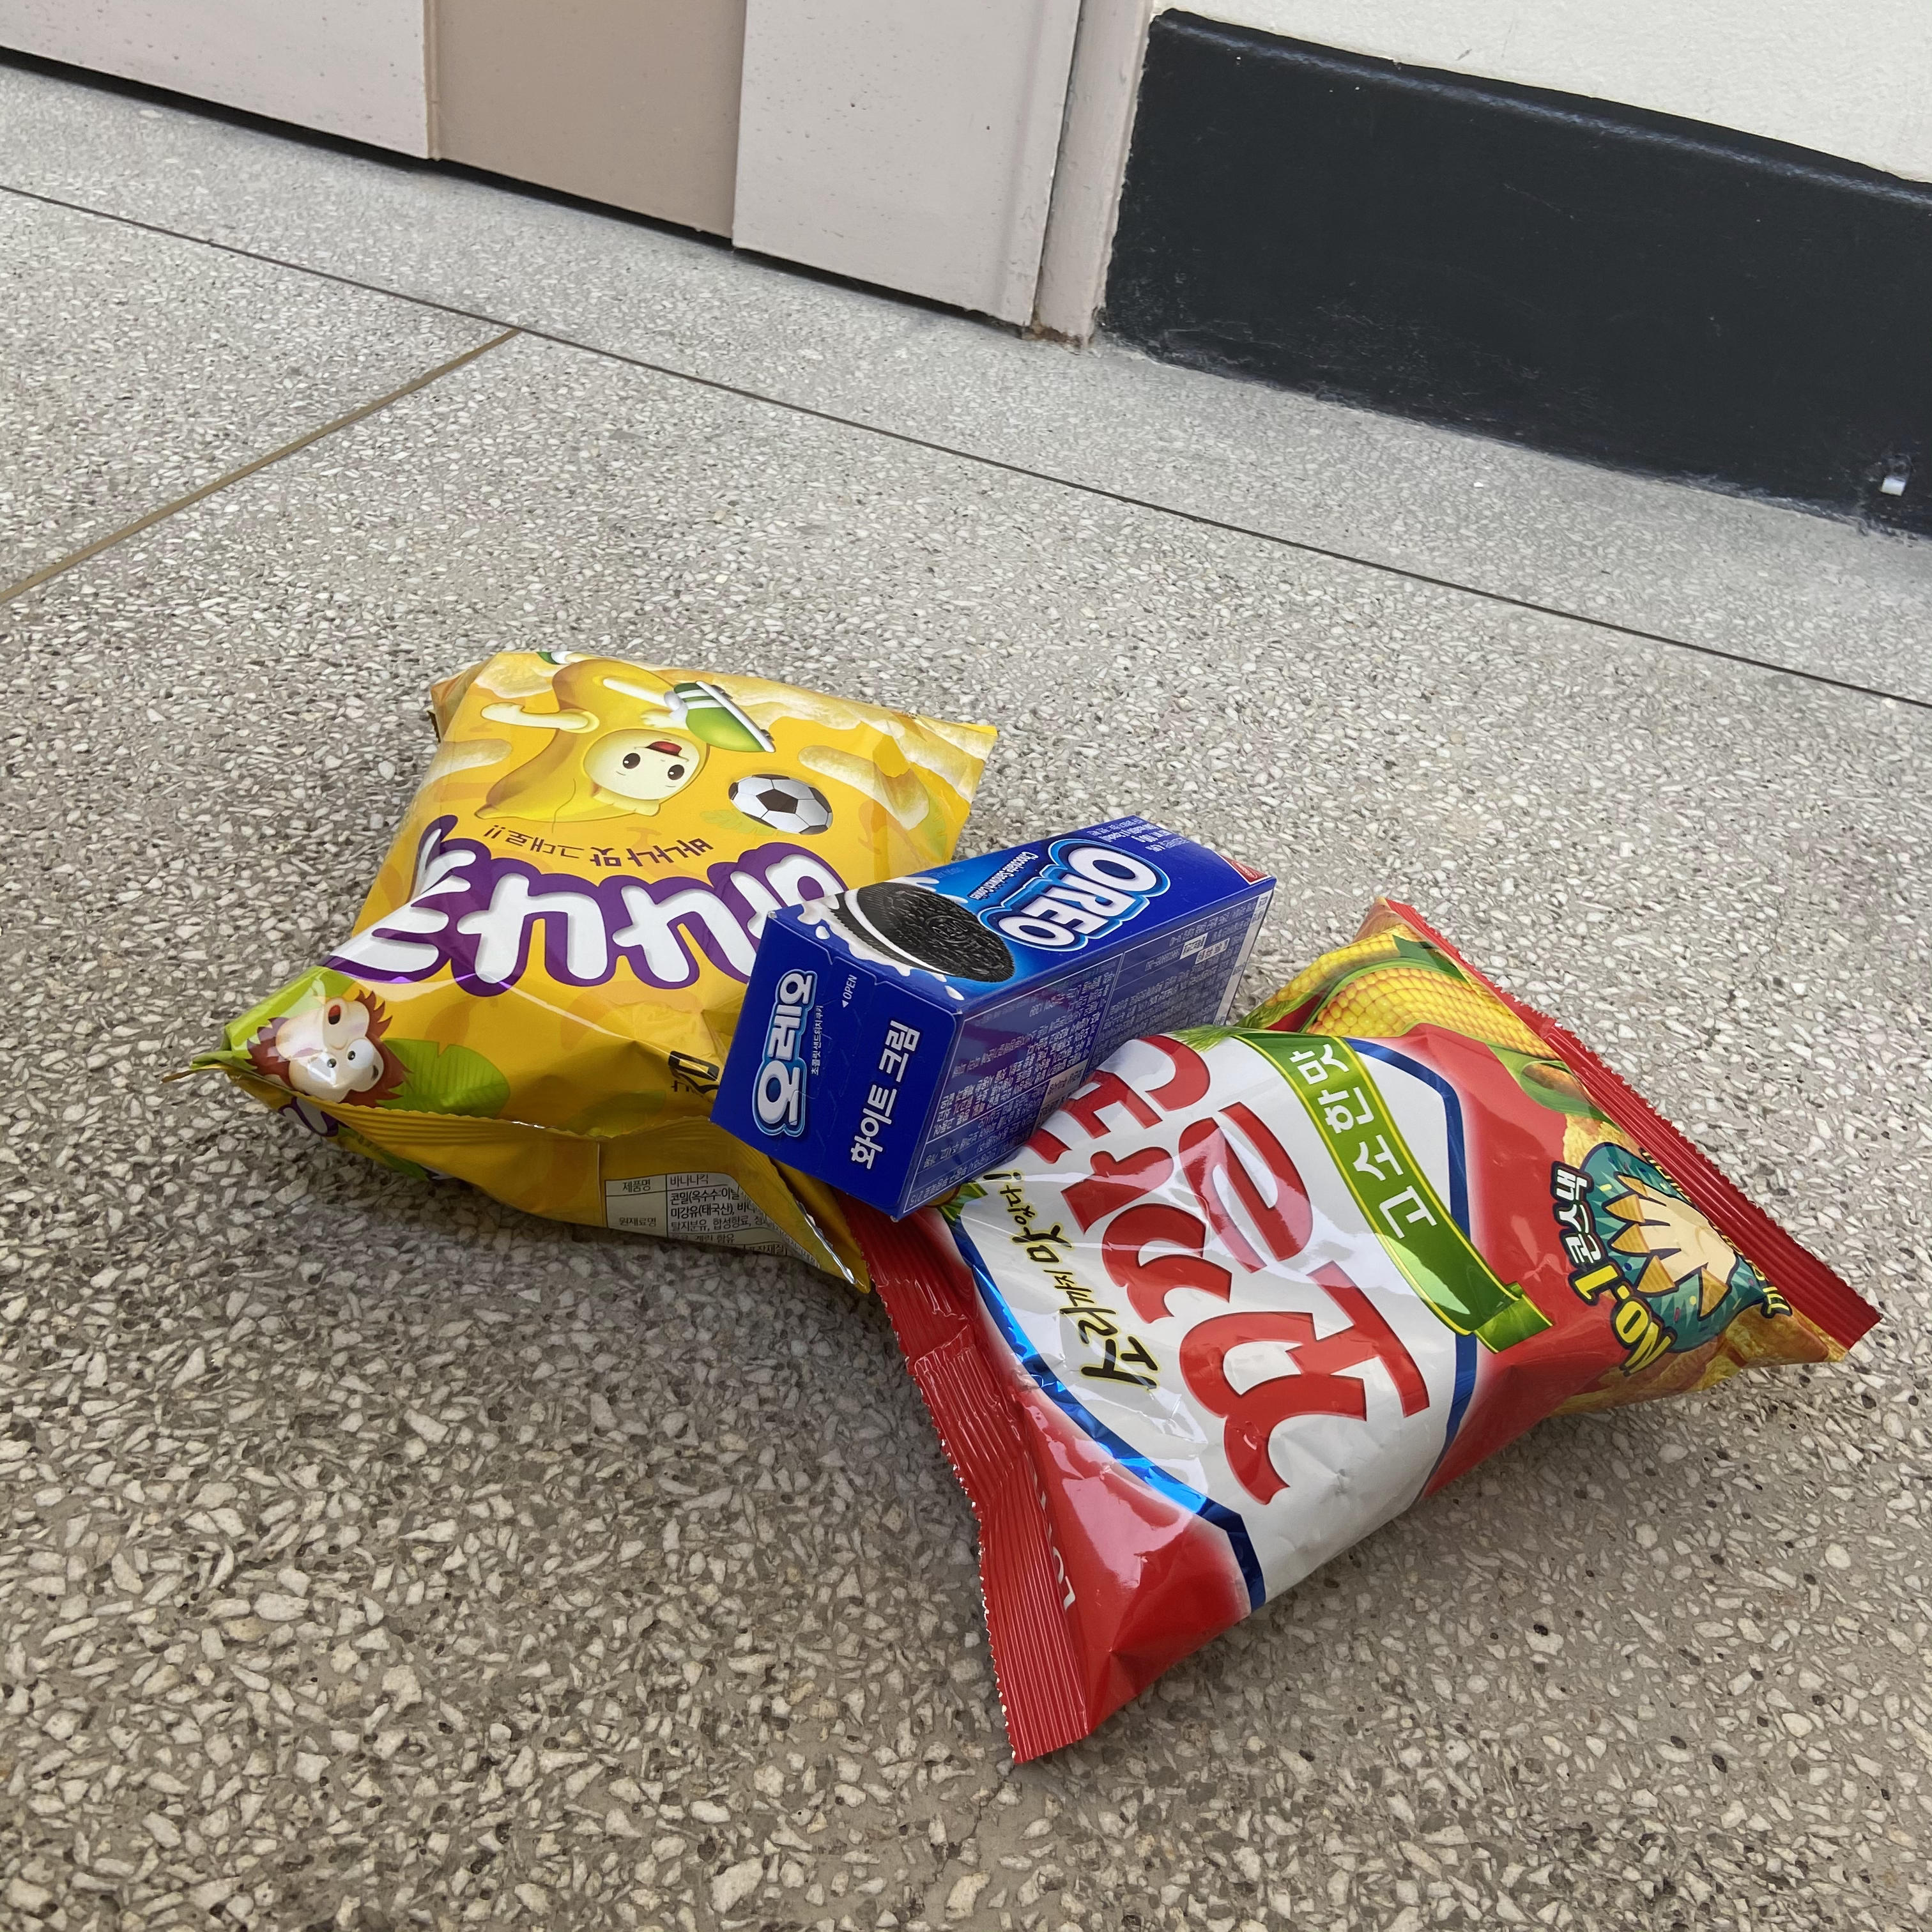banana: (195, 630, 1010, 1316)
ggoggalcon: (835, 879, 1897, 1780)
oreo: (699, 807, 1283, 1231)
